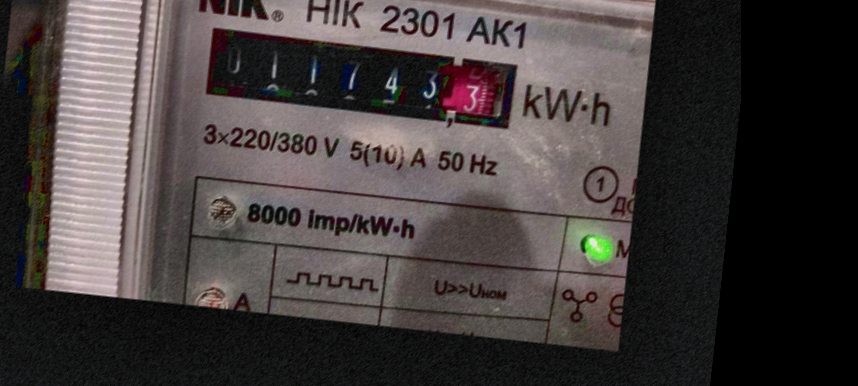0: (220, 40, 243, 78)
1: (303, 50, 322, 85), (266, 46, 280, 80)
3: (416, 65, 439, 102), (459, 82, 480, 116)
4: (379, 61, 400, 97)
7: (341, 56, 362, 92)
screen: (188, 14, 530, 143)
